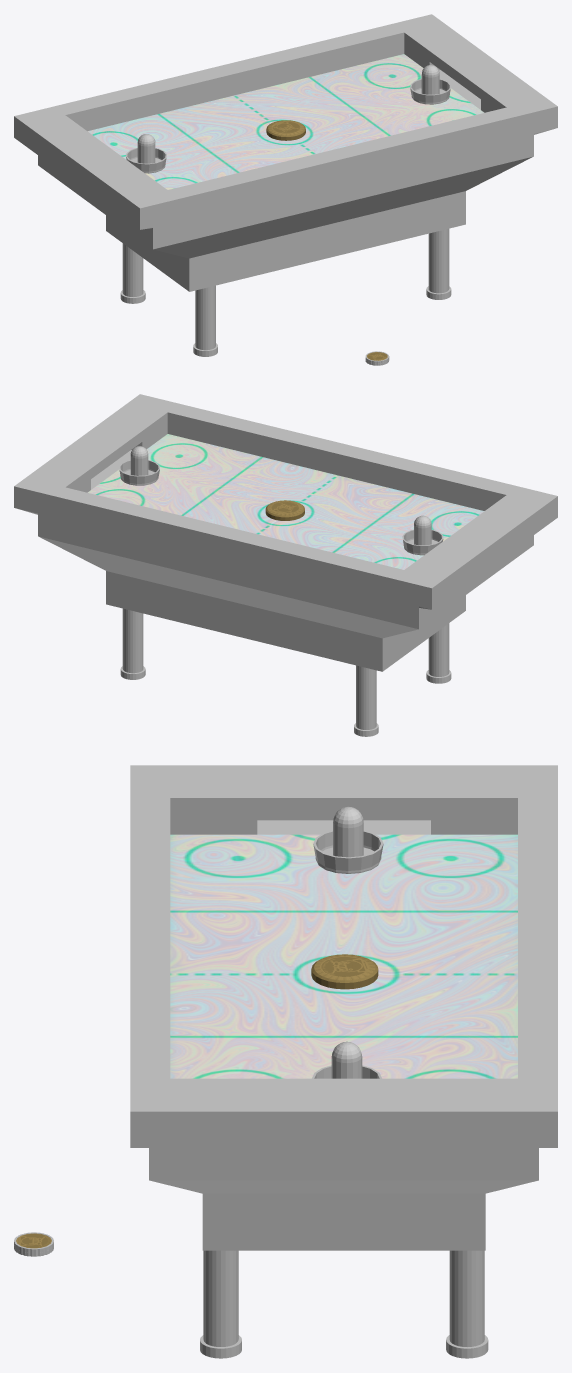
Rendered from air hockey + coinTEXTURISED.fbx.
The picture shows the model from 3 angles, top to bottom: view 1: azimuth 30°, elevation 25°; view 2: azimuth 150°, elevation 25°; view 3: azimuth 270°, elevation 25°; orthographic projection. The views are drawn at different scales.
Visible parts, largest first — view 1: Cube, Cylinder.001, Circle.002, Circle.001, Cylinder; view 2: Cube, Cylinder.001, Circle.002, Circle.001, Cylinder; view 3: Cube, Cylinder.001, Circle.001, Cylinder, Circle.002, Circle.
Part boxes in pixels (bbox=[...]): Cube: bbox=[14, 14, 557, 291]; Cylinder.001: bbox=[120, 228, 451, 356]; Circle.002: bbox=[410, 65, 451, 104]; Circle.001: bbox=[126, 134, 166, 173]; Cylinder: bbox=[266, 120, 305, 140]; Cube: bbox=[14, 394, 557, 671]; Cylinder.001: bbox=[120, 608, 451, 736]; Circle.002: bbox=[119, 446, 159, 485]; Circle.001: bbox=[402, 515, 443, 555]; Cylinder: bbox=[265, 500, 304, 520]; Cube: bbox=[130, 765, 557, 1250]; Cylinder.001: bbox=[200, 1250, 488, 1358]; Circle.001: bbox=[313, 806, 383, 873]; Cylinder: bbox=[311, 954, 378, 989]; Circle.002: bbox=[312, 1041, 381, 1078]; Circle: bbox=[14, 1232, 53, 1256].
Bounding box in the file's own units: 2444 × 1088 × 1623.
